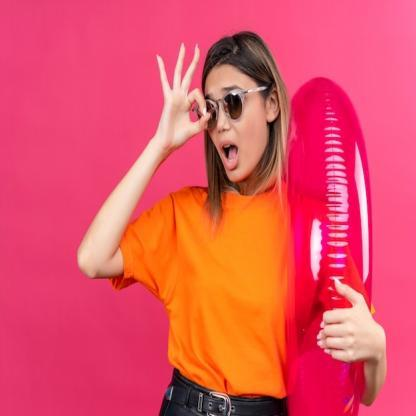ok: (154, 41, 214, 148)
